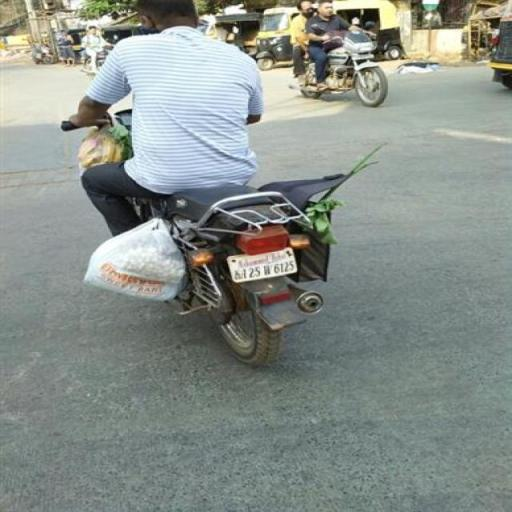using mobile: (130, 23, 168, 35)
